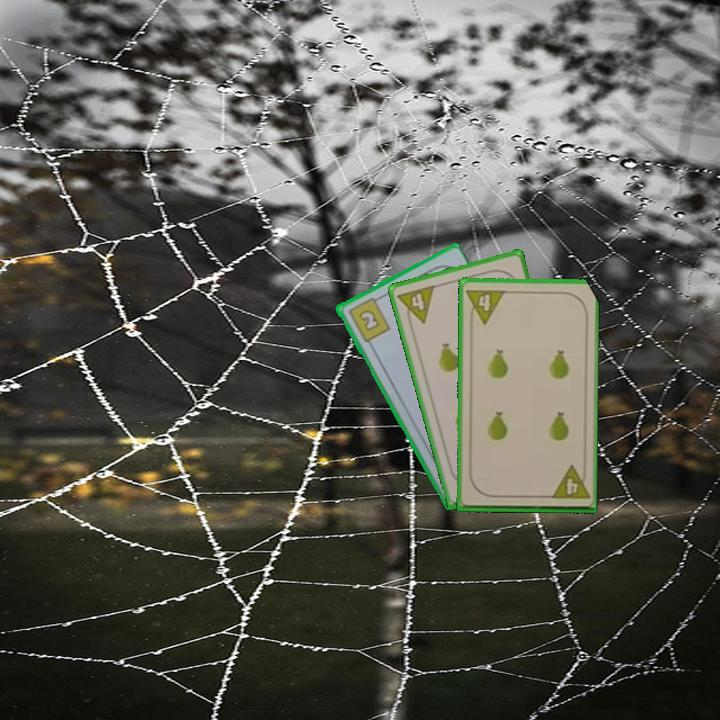2b: (344, 293, 393, 345)
4p: (394, 281, 437, 329), (463, 285, 507, 327), (547, 462, 591, 502)
